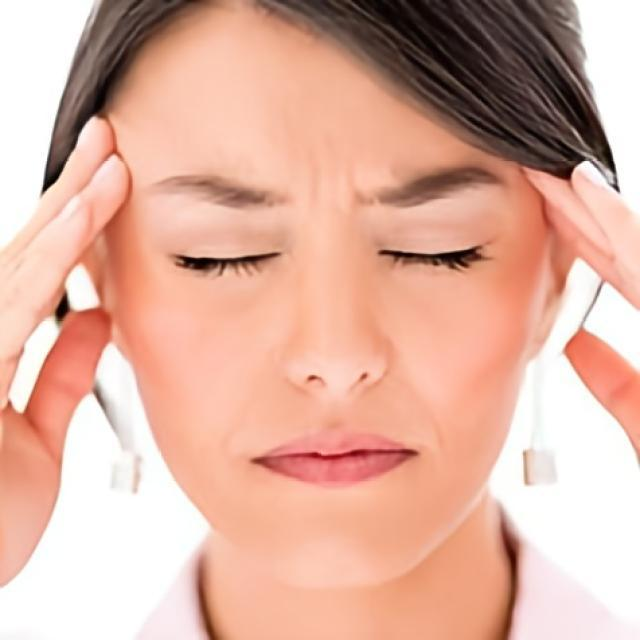sad: (95, 0, 546, 589)
